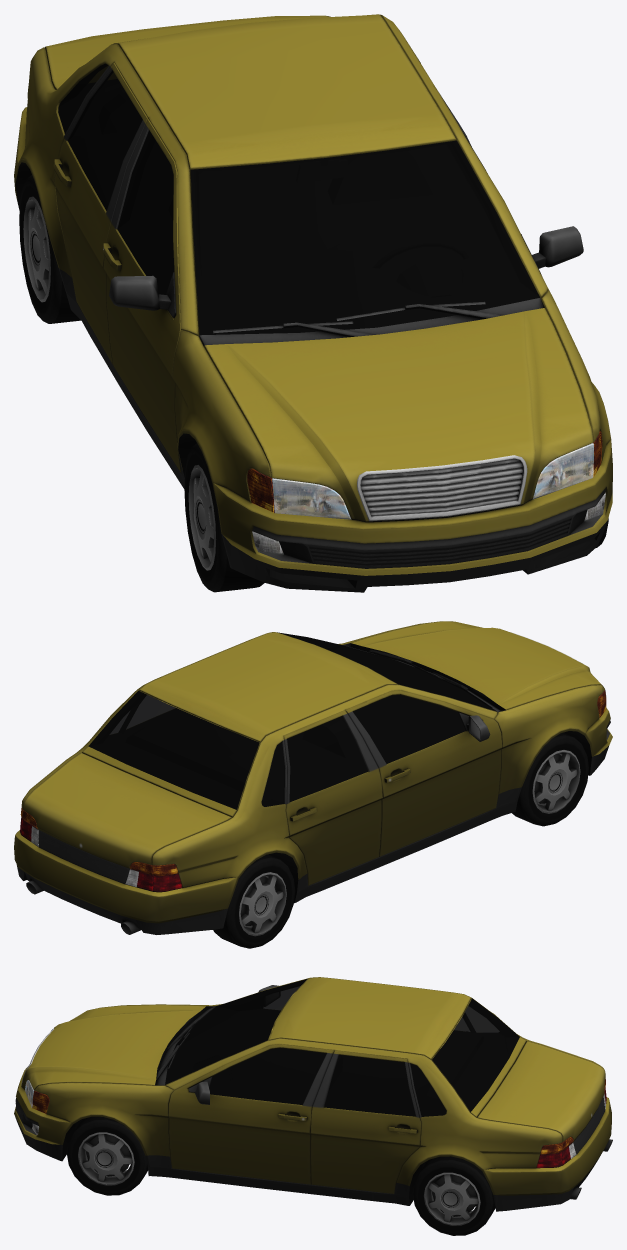
File: sedan.glb
The picture shows the model from 3 angles, top to bottom: view 1: azimuth 30°, elevation 25°; view 2: azimuth 150°, elevation 25°; view 3: azimuth 270°, elevation 25°; orthographic projection. The views are drawn at different scales.
Parts seen in each view (by area): view 1: Sedan Body, Wheel_A002, Wheel_A003; view 2: Sedan Body, Wheel_A003, Wheel_A002; view 3: Sedan Body, Wheel_A001, Wheel_A.
Boxes of the visible parts, x1,y1,x2,y2 form: Sedan Body: (14, 14, 612, 592); Wheel_A002: (184, 443, 264, 592); Wheel_A003: (19, 175, 81, 323); Sedan Body: (14, 621, 612, 934); Wheel_A003: (213, 854, 295, 948); Wheel_A002: (512, 732, 588, 826); Sedan Body: (14, 977, 612, 1211); Wheel_A001: (412, 1156, 495, 1235); Wheel_A: (66, 1116, 147, 1195).
Bounding box in the file's own units: 2.43 × 1.34 × 4.35.
4 materials, 3 textured.
